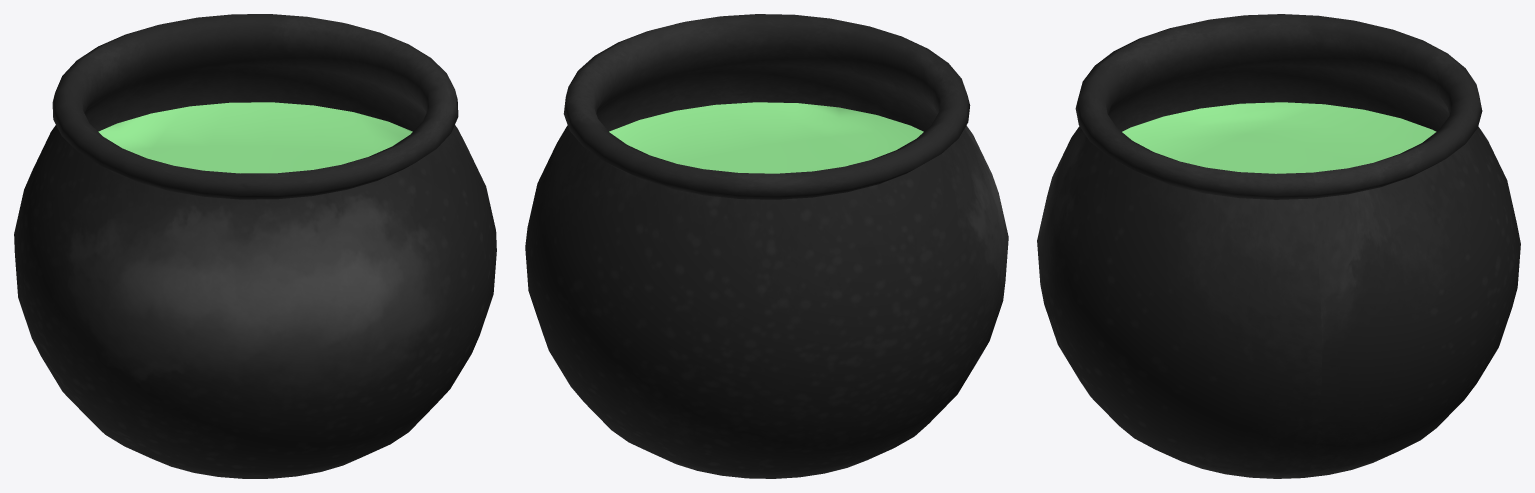
The model's file is Pumpkinboy_prop_culdron.fbx.
3 renders of one model, left to right at view 1: azimuth 30°, elevation 25°; view 2: azimuth 150°, elevation 25°; view 3: azimuth 270°, elevation 25°, orthographic.
Parts seen in each view (by area): view 1: culdron; view 2: culdron; view 3: culdron.
Boxes of the visible parts, box(x1,y1,x2,y2) form: culdron: box(14, 14, 496, 478); culdron: box(525, 14, 1008, 478); culdron: box(1037, 14, 1520, 478).
Size of the model in its own units: 261 by 195 by 261.
